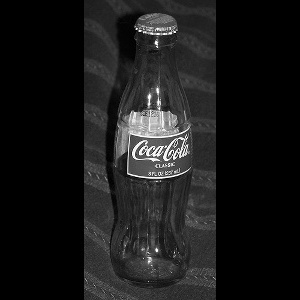emptybottle: (114, 13, 190, 289)
